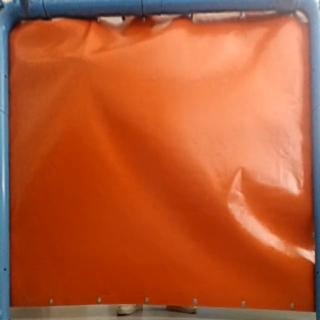Hit-hRxx: (70, 50, 93, 64)
